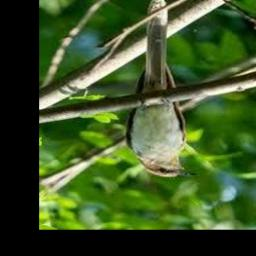Cuckoo: (125, 2, 199, 177)
